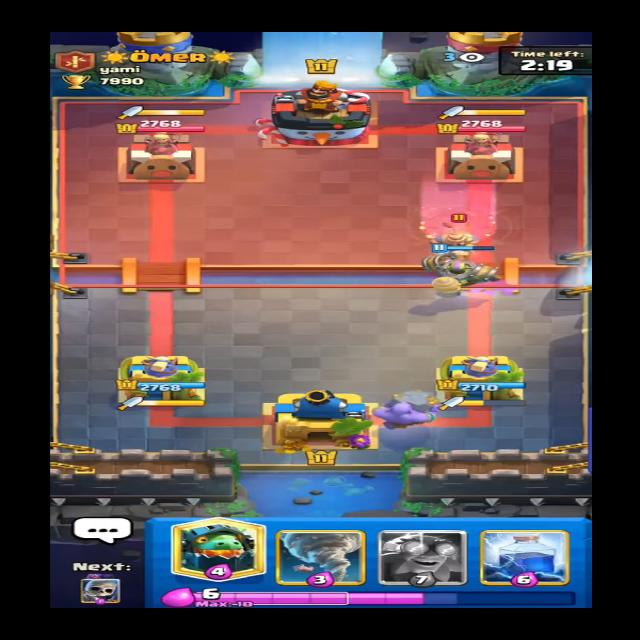prince: (426, 216, 487, 273)
